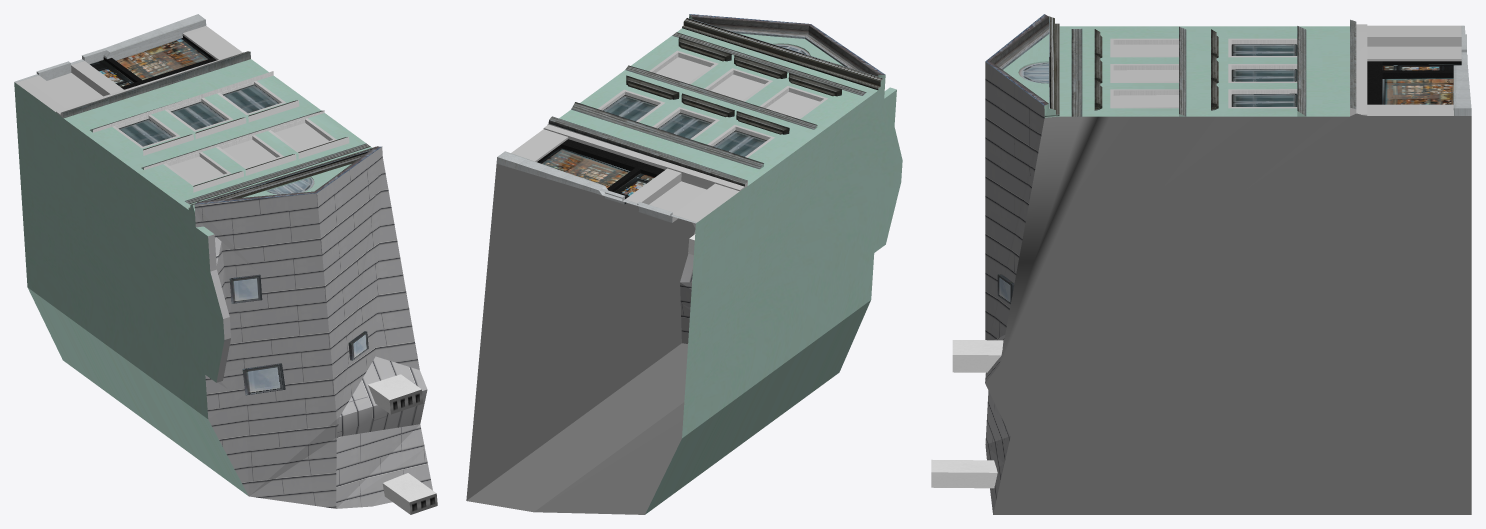
File: Dunkri_3.obj
The picture shows the model from 3 angles, left to right: view 1: azimuth 30°, elevation 25°; view 2: azimuth 150°, elevation 25°; view 3: azimuth 270°, elevation 25°; orthographic projection. The views are drawn at different scales.
Visible parts, largest first — view 1: Dunkri_3; view 2: Dunkri_3; view 3: Dunkri_3.
Boxes of the visible parts, x1=… form: Dunkri_3: x1=14, y1=14, x2=437, y2=514; Dunkri_3: x1=466, y1=14, x2=902, y2=514; Dunkri_3: x1=931, y1=14, x2=1471, y2=514.
Size of the model in its own units: 9.5 by 14.14 by 17.66.
